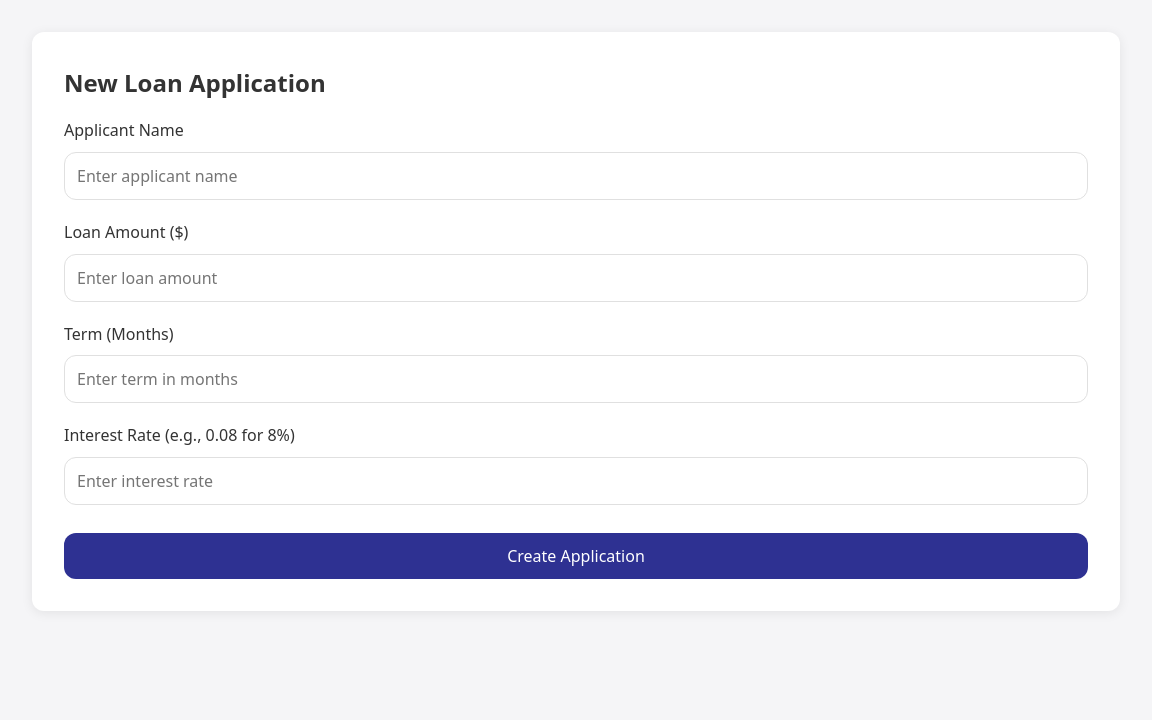
LoanForm › displays error when amount is invalid
Type "John Doe" into the field with id "applicantName" at (576, 176), box [64,152,1088,200]
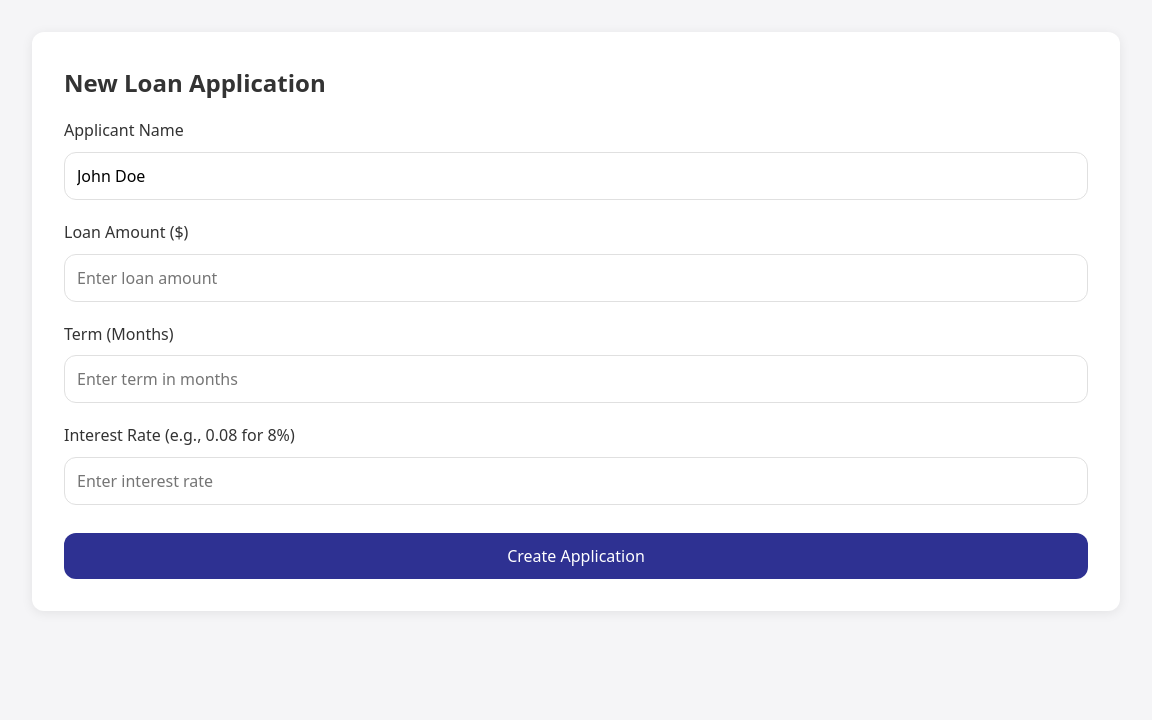
Type "0" into the number field with id "amount" at (576, 278), box [64,254,1088,302]
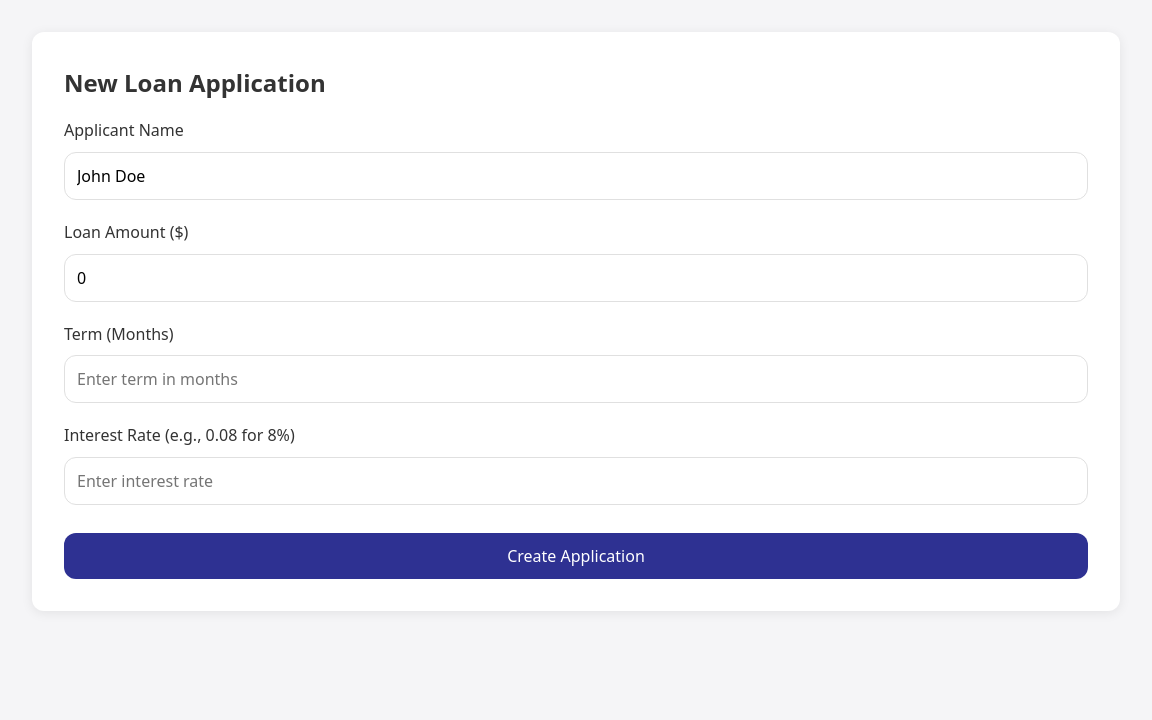
Type "12" into the number field with id "termMonths" at (576, 379), box [64,355,1088,403]
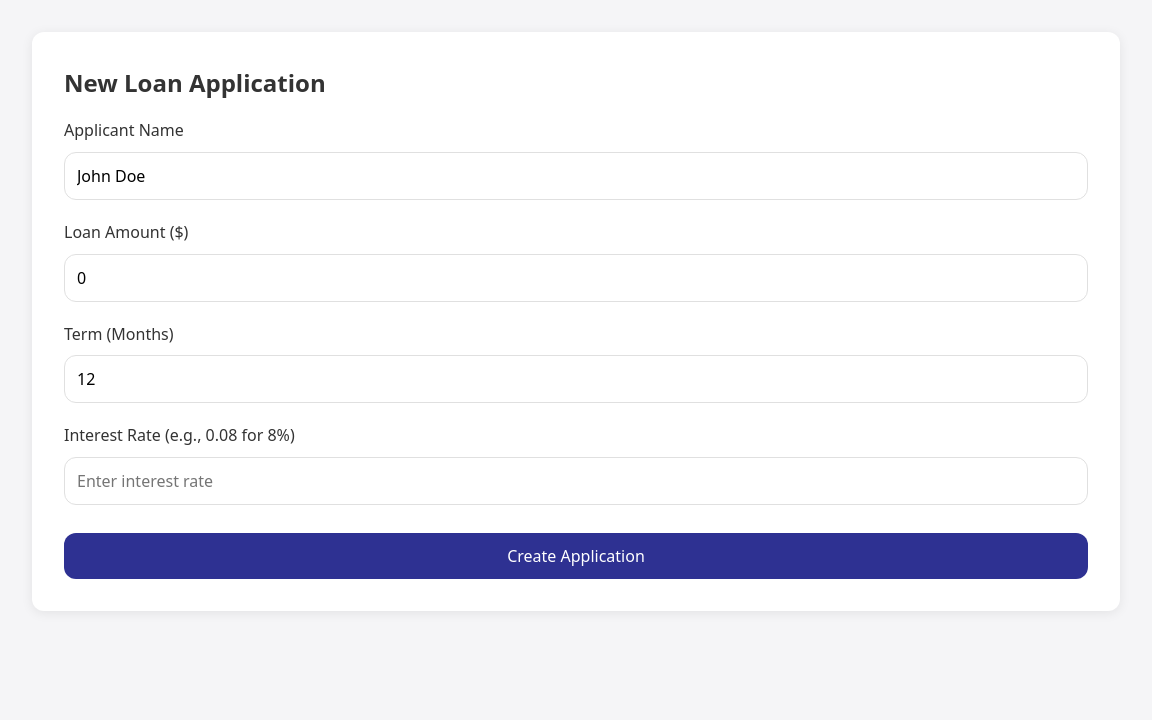
Type "0.05" into the number field with id "interestRate" at (576, 481), box [64,457,1088,505]
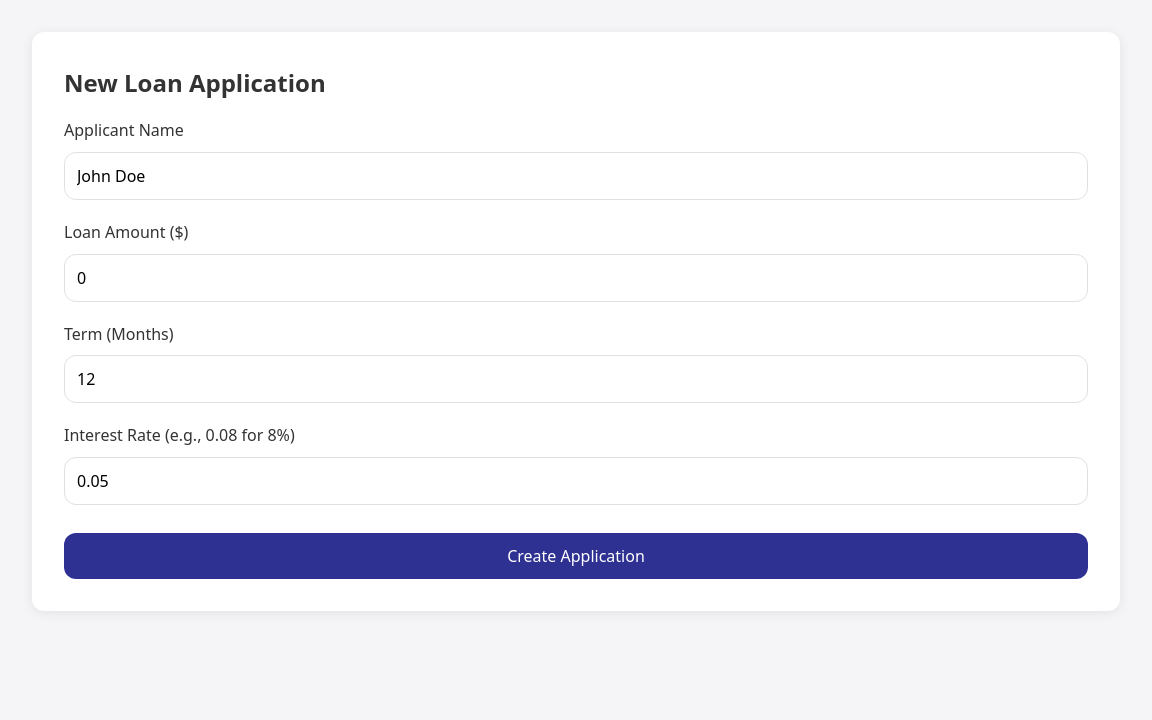
Submit the form, box [64,118,1088,579]
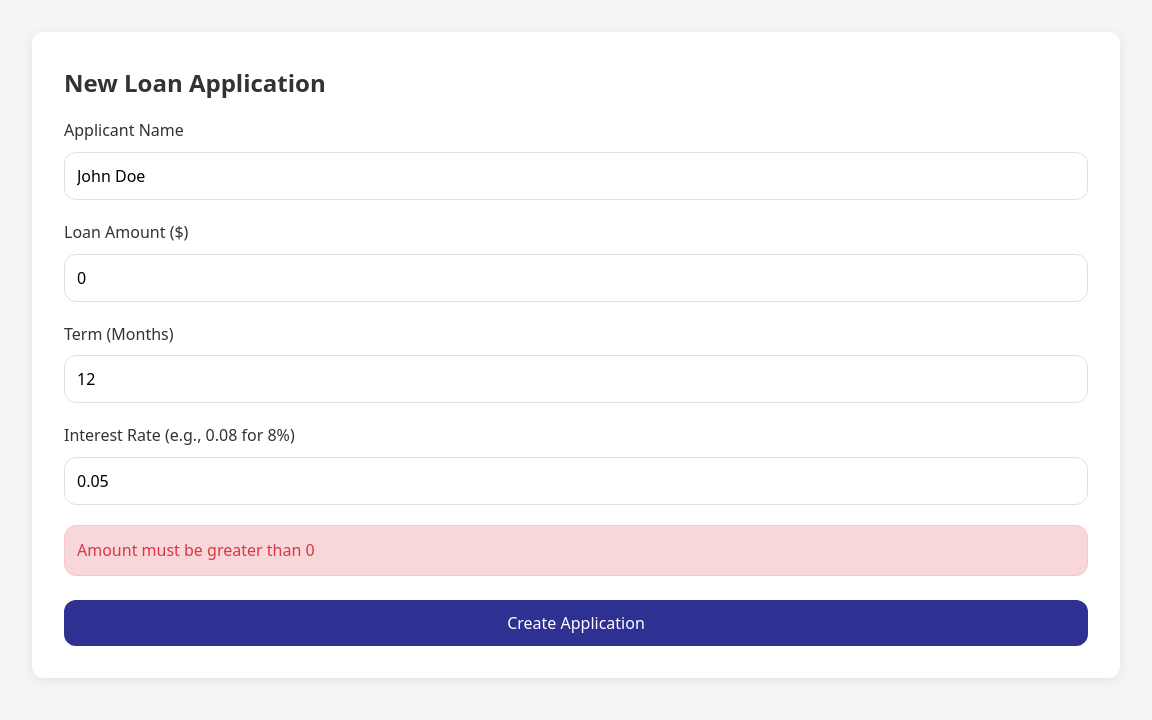
Result: the text with class "error-message" reads "Amount must be greater than 0" at [77,539,315,561]
